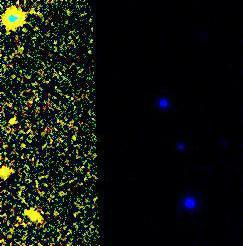star: (22, 203, 52, 233)
